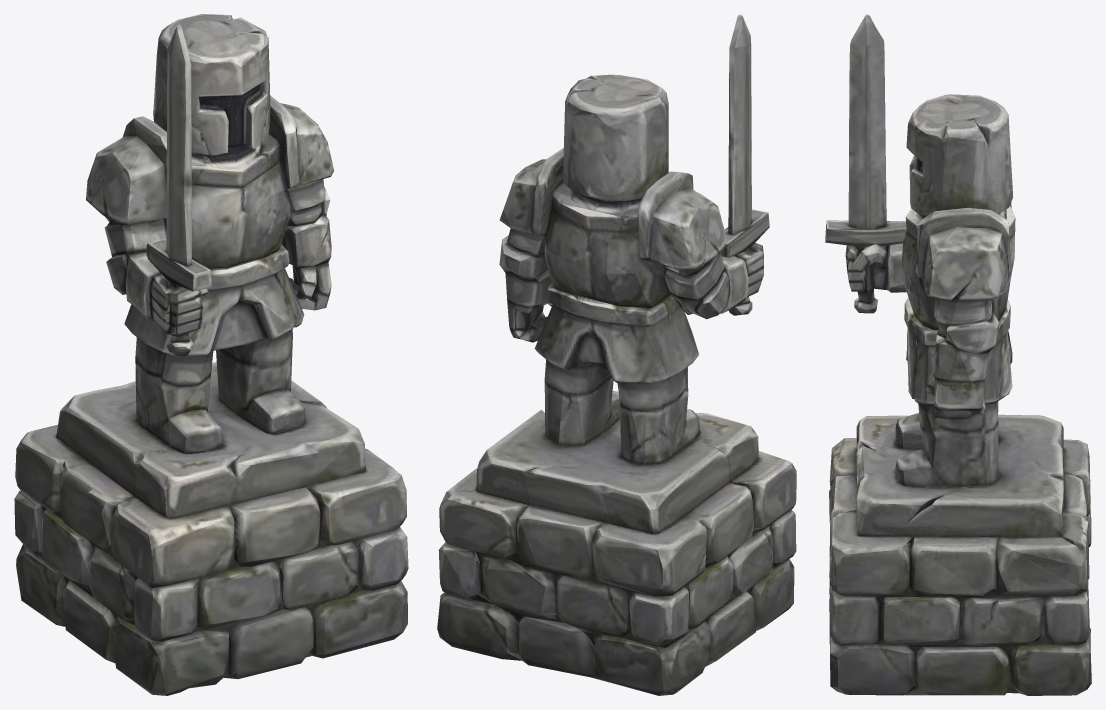
Rendered from statue_3d.glb.
The picture shows the model from 3 angles, left to right: view 1: azimuth 30°, elevation 25°; view 2: azimuth 150°, elevation 25°; view 3: azimuth 270°, elevation 25°; orthographic projection. The views are drawn at different scales.
Parts seen in each view (by area): view 1: Mesh_0; view 2: Mesh_0; view 3: Mesh_0.
Boxes of the visible parts, x1,y1,x2,y2 form: Mesh_0: (14,14,408,695); Mesh_0: (437,14,796,695); Mesh_0: (825,14,1091,695).
Size of the model in its own units: 0.7837 by 1.88 by 0.7695.
Materials: 1 (1 with a texture image).
